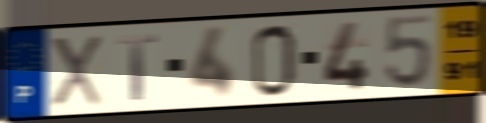0: (250, 21, 301, 98)
4: (185, 22, 239, 104), (321, 19, 372, 93)
5: (383, 12, 434, 93)
T: (114, 32, 161, 102)
X: (48, 33, 105, 110)
